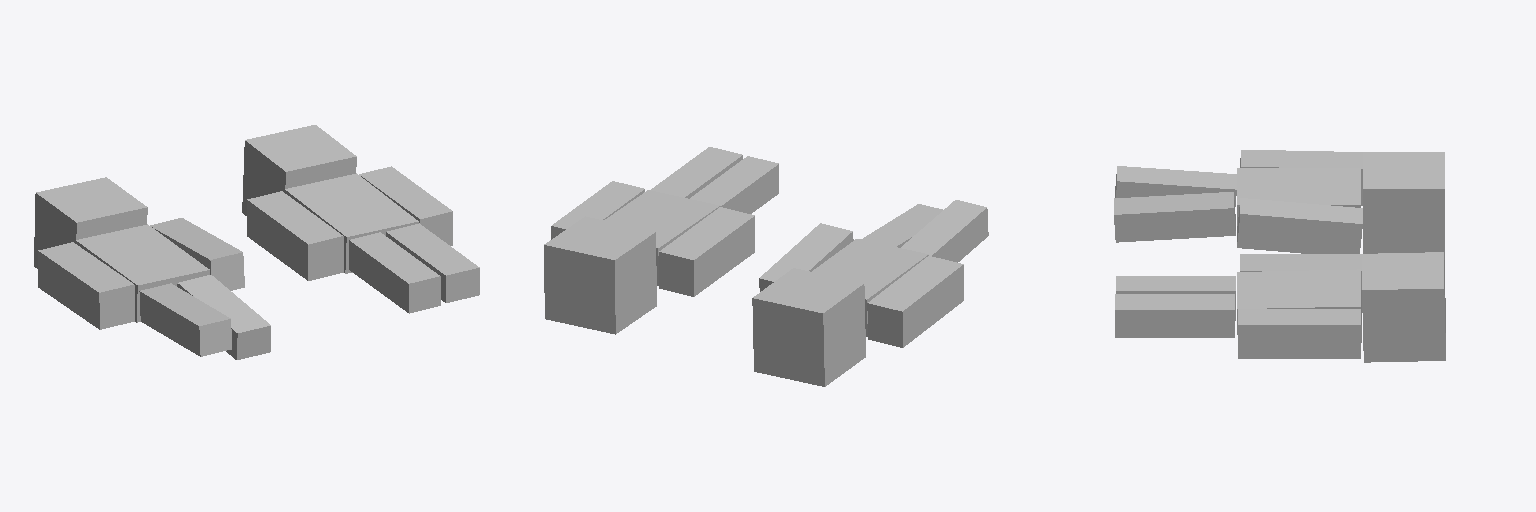
File: steve_000004.obj
3 views of the same model, side by side, from view 1: azimuth 30°, elevation 25°; view 2: azimuth 150°, elevation 25°; view 3: azimuth 270°, elevation 25° (orthographic).
Parts seen in each view (by area): view 1: Cube.001_Cube.002, Cube_Cube.001; view 2: Cube_Cube.001, Cube.001_Cube.002; view 3: Cube.001_Cube.002, Cube_Cube.001.
Part boxes in pixels (left/top/right/bottom): Cube.001_Cube.002: left=242, top=125, right=479, bottom=313; Cube_Cube.001: left=34, top=177, right=270, bottom=359; Cube_Cube.001: left=752, top=200, right=988, bottom=386; Cube.001_Cube.002: left=544, top=147, right=778, bottom=334; Cube.001_Cube.002: left=1115, top=252, right=1445, bottom=362; Cube_Cube.001: left=1114, top=150, right=1444, bottom=259.
Bounding box in the file's own units: 6.55 × 1.37 × 5.35.